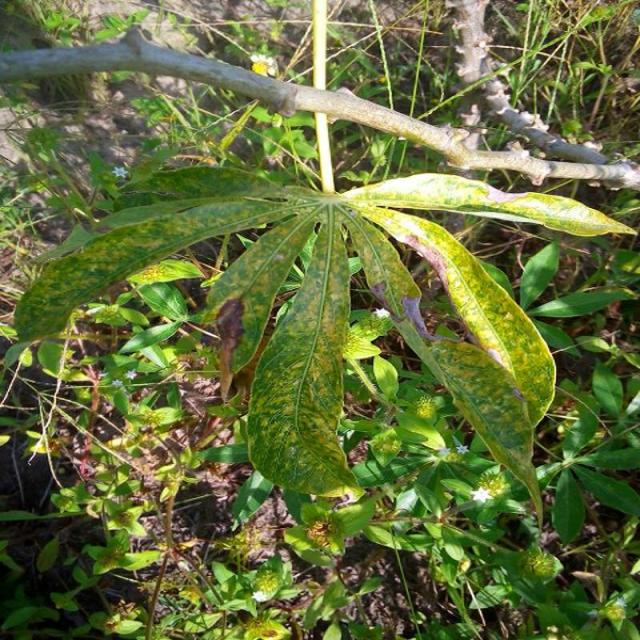cassava leaf: (246, 204, 365, 500)
